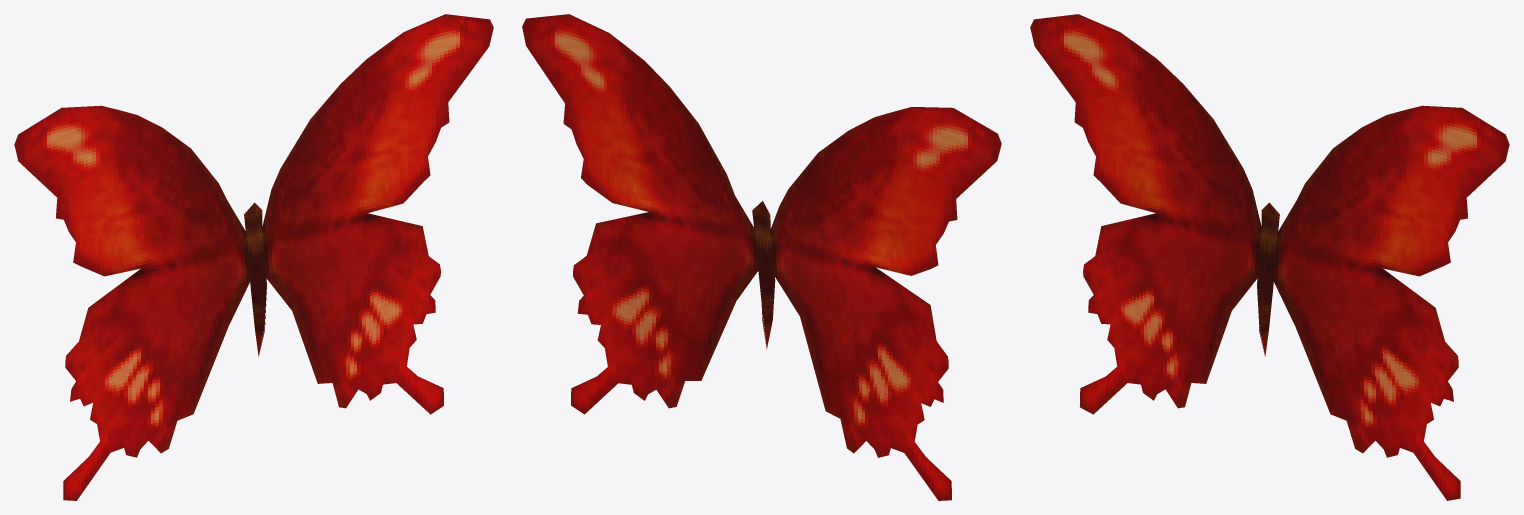
Rendered from ps2_save-icons_fatalframe2-gamedata.glb.
The picture shows the model from 3 angles, left to right: view 1: azimuth 30°, elevation 25°; view 2: azimuth 150°, elevation 25°; view 3: azimuth 330°, elevation 25°; orthographic projection.
Visible parts, largest first — view 1: zero-b-game.ico; view 2: zero-b-game.ico; view 3: zero-b-game.ico.
Boxes of the visible parts, <box> form: zero-b-game.ico: <box>14,14,493,500</box>; zero-b-game.ico: <box>522,14,1001,500</box>; zero-b-game.ico: <box>1030,14,1509,500</box>.
Size of the model in its own units: 4.77 by 3.77 by 0.2705.
1 material, 1 textured.
